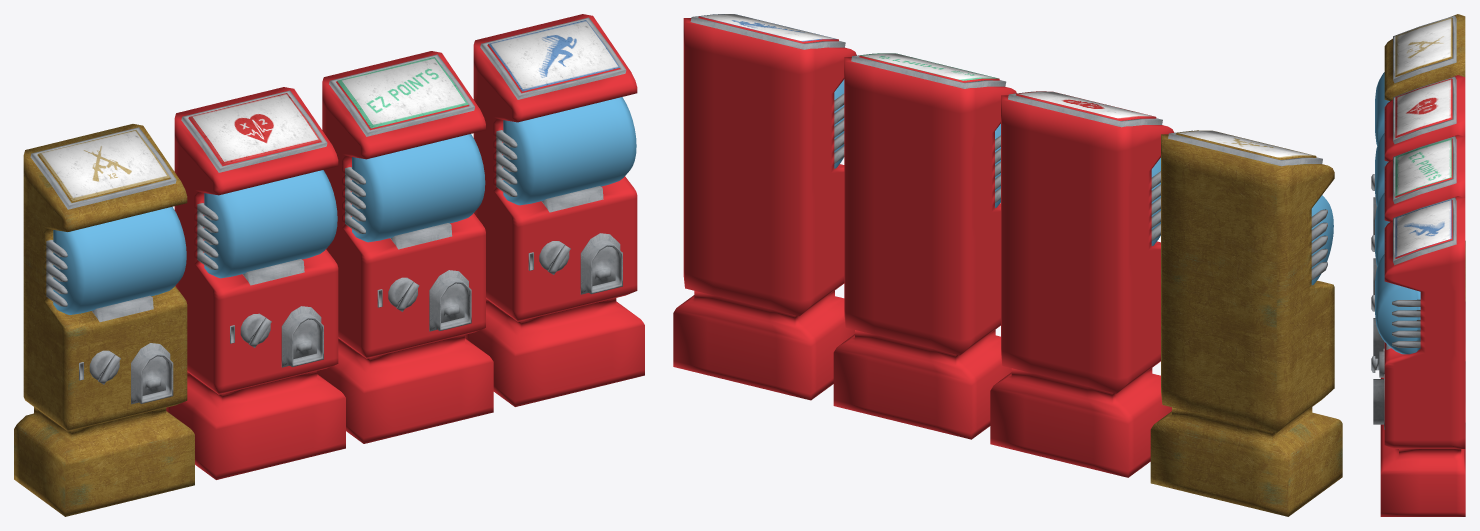
File: perkmachines.fbx
3 views of the same model, side by side, from view 1: azimuth 30°, elevation 25°; view 2: azimuth 150°, elevation 25°; view 3: azimuth 270°, elevation 25° (orthographic). The views are drawn at different scales.
Visible parts, largest first — view 1: x2damagemachine, speedmachine, x2healthmachine, pointsmachine; view 2: x2damagemachine, speedmachine, x2healthmachine, pointsmachine; view 3: speedmachine, pointsmachine, x2damagemachine, x2healthmachine.
Boxes of the visible parts, x1=… form: x2damagemachine: x1=14, y1=124, x2=194, y2=516; speedmachine: x1=465, y1=14, x2=644, y2=406; x2healthmachine: x1=166, y1=87, x2=345, y2=479; pointsmachine: x1=317, y1=51, x2=493, y2=443; x2damagemachine: x1=1150, y1=130, x2=1342, y2=516; speedmachine: x1=673, y1=14, x2=856, y2=400; x2healthmachine: x1=990, y1=91, x2=1173, y2=477; pointsmachine: x1=833, y1=53, x2=1016, y2=439; speedmachine: x1=1371, y1=196, x2=1465, y2=516; pointsmachine: x1=1371, y1=135, x2=1465, y2=422; x2damagemachine: x1=1371, y1=14, x2=1465, y2=301; x2healthmachine: x1=1371, y1=75, x2=1465, y2=360.
Bounding box in the file's own units: 1515 × 819 × 257.
